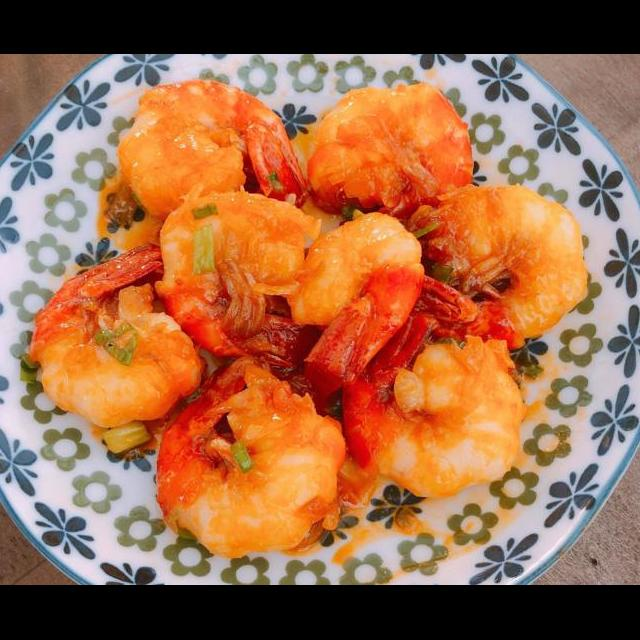tom: (151, 350, 350, 564), (337, 312, 531, 500), (26, 239, 212, 432), (150, 188, 328, 380), (402, 178, 594, 350), (296, 78, 480, 234), (111, 74, 312, 214), (284, 208, 427, 398)
